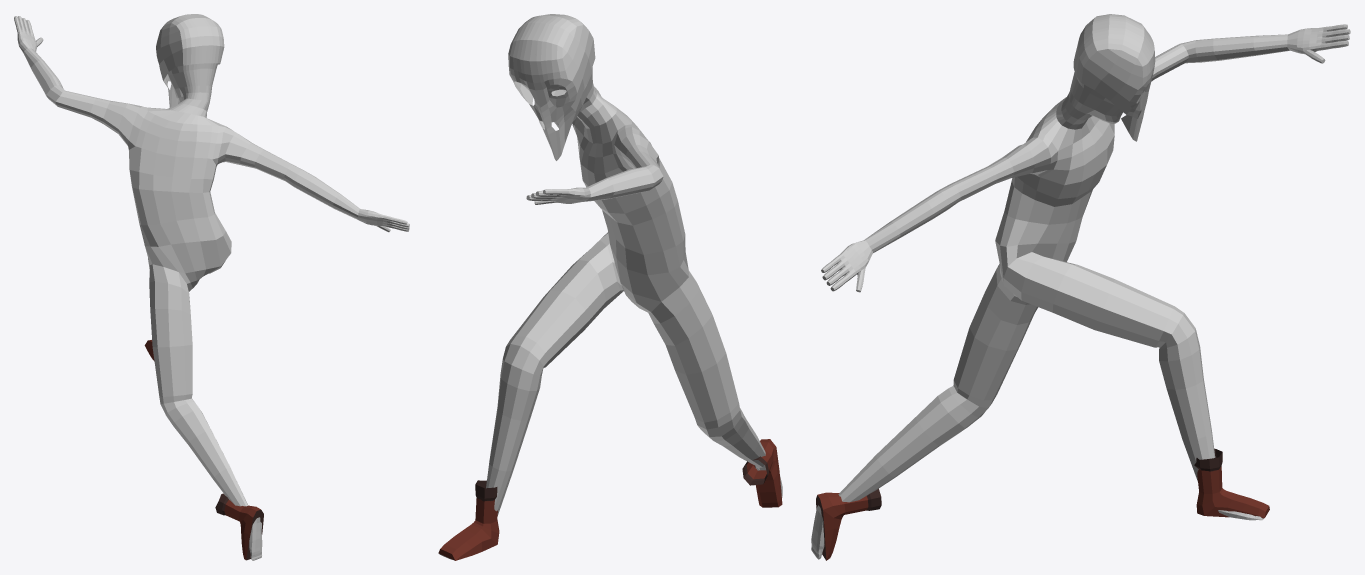
Rendered from saltoadelante_000112.obj.
3 views of the same model, side by side, from view 1: azimuth 30°, elevation 25°; view 2: azimuth 150°, elevation 25°; view 3: azimuth 270°, elevation 25° (orthographic). The views are drawn at different scales.
Parts seen in each view (by area): view 1: Plane.002_Plane.001, Plane.004; view 2: Plane.002_Plane.001, Plane.003, Plane.004; view 3: Plane.002_Plane.001, Plane.003, Plane.004.
Part boxes in pixels (x1,y1,x2,y2): Plane.002_Plane.001: [14, 14, 409, 560]; Plane.004: [215, 493, 263, 560]; Plane.002_Plane.001: [439, 14, 782, 559]; Plane.003: [438, 480, 499, 560]; Plane.004: [742, 439, 782, 507]; Plane.002_Plane.001: [811, 14, 1350, 559]; Plane.003: [1194, 448, 1269, 518]; Plane.004: [816, 488, 881, 560].
Size of the model in its own units: 3.37 by 6.52 by 5.59.
